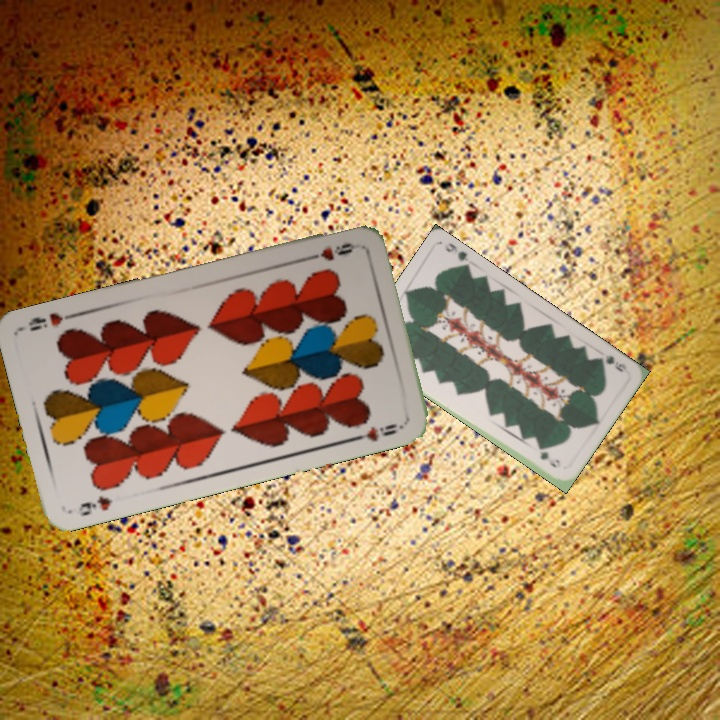G9: (591, 351, 629, 375)
H9: (302, 239, 360, 264), (69, 492, 115, 519)
